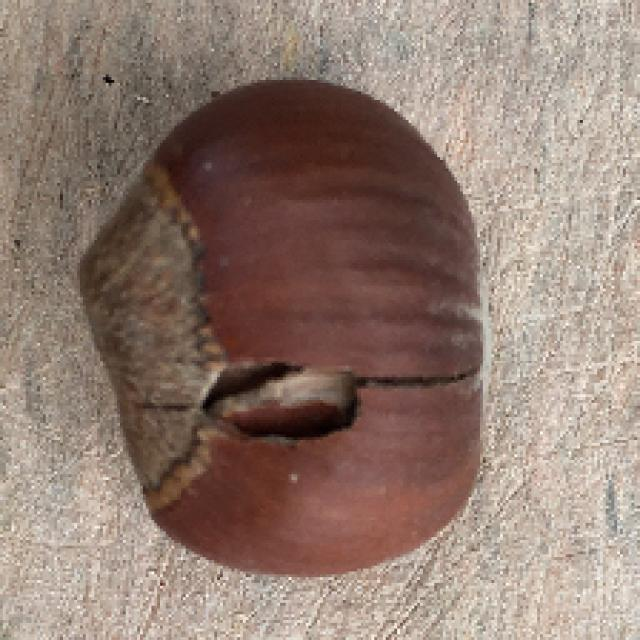damagedHazelnut: (66, 79, 491, 582)
